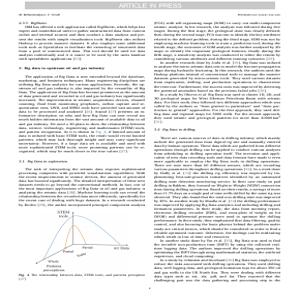diagram: (24, 209, 135, 273)
text: (152, 19, 284, 286), (16, 18, 149, 208), (116, 1, 182, 10)
